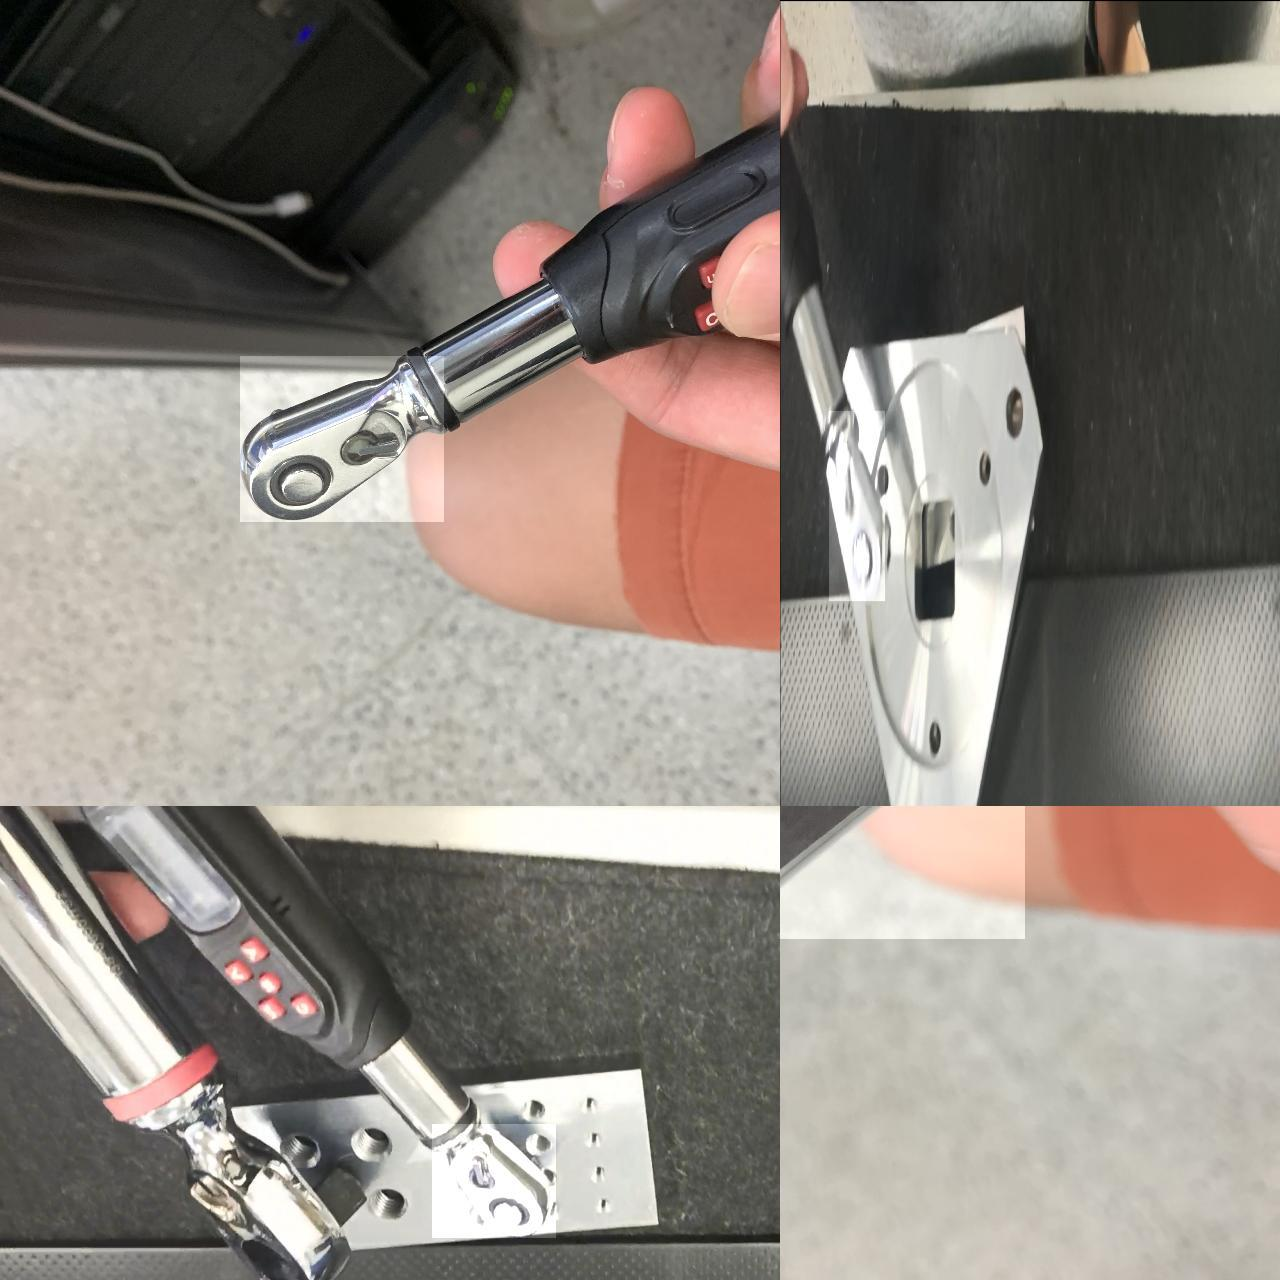Tool: (139, 1092, 372, 1280), (238, 355, 443, 520), (431, 1123, 554, 1237), (829, 409, 885, 600)
